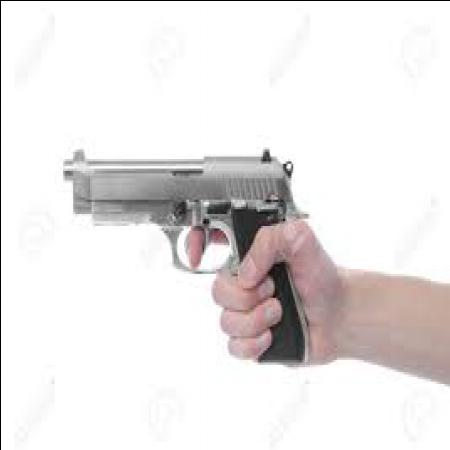Pistol: (59, 136, 307, 370)
